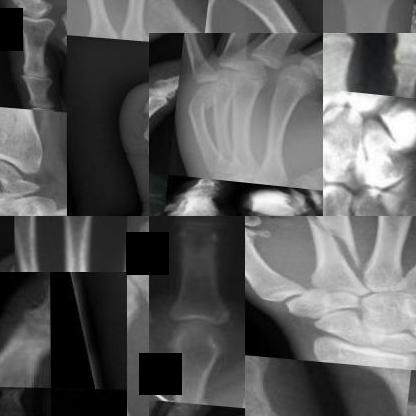fracture: (290, 216, 378, 264), (248, 178, 309, 214), (184, 84, 221, 120), (135, 88, 148, 128), (5, 0, 51, 11), (397, 192, 415, 215), (32, 206, 67, 215)
